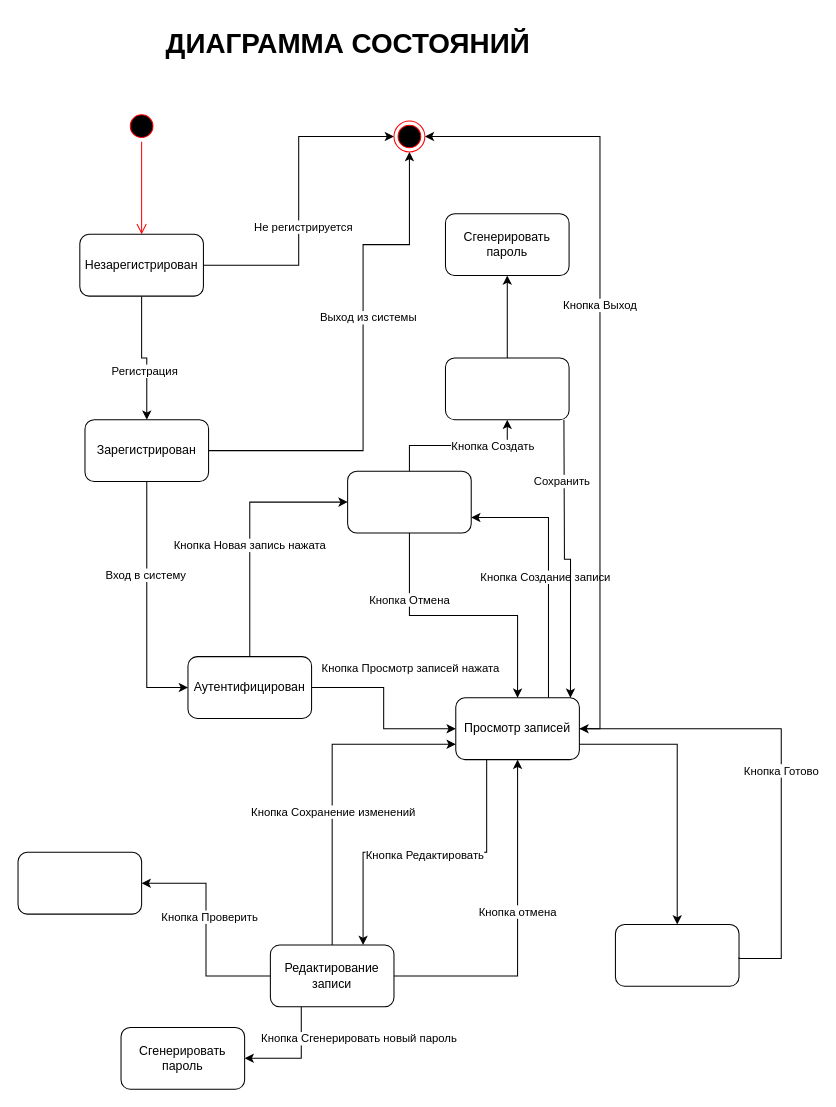
Image size: 836x1107. Some labels were removed from this diagram. The centre of each missing label's shape, as x and y in pixels:
Ввод информации: pixel 506 388
Проверка пароля по уже слитым: pixel 79 882
Создание записи: pixel 409 501
Удалить запись: pixel 676 954
